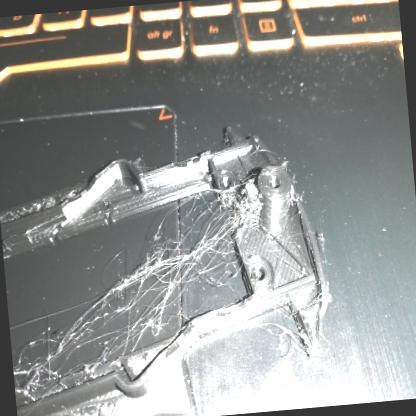fail: (58, 185, 275, 340)
